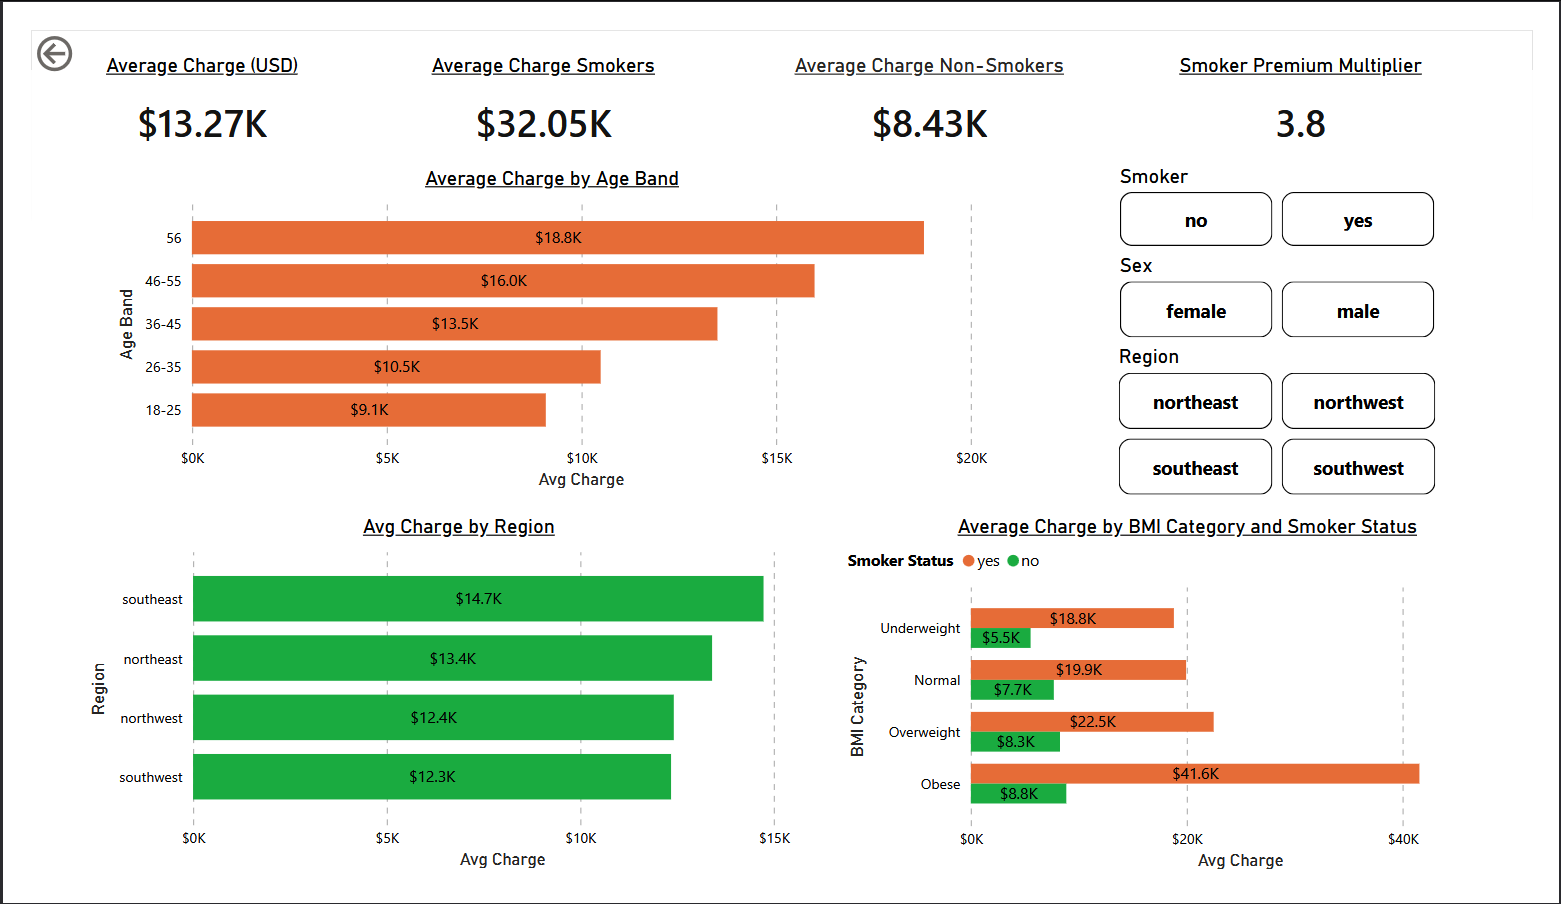

Layout of this report page (visuals, bound fields, positions):
{"tool":"powerbi","page":{"name":"Executive Overview","canvas":[1280,720],"ordinal":0},"visuals":[{"type":"cardVisual","title":"Average Charge (USD)","fields":{"Data":["_Measures.Avg Charge"]},"box":[49.9,19.9,191.3,94.3],"z":0},{"type":"cardVisual","title":"Average Charge Smokers","fields":{"Data":["_Measures.Avg Charge Smokers"]},"box":[322.8,19.9,226.7,94.3],"z":1000},{"type":"cardVisual","title":"Average Charge Non-Smokers","fields":{"Data":["_Measures.Avg Charge Non-Smokers"]},"box":[640.2,19.9,251.2,94.3],"z":2000},{"type":"cardVisual","title":"Smoker Premium Multiplier","fields":{"Data":["_Measures.Smoker Premium Multiplier"]},"box":[970.3,19.9,224,94.3],"z":3000},{"type":"clusteredBarChart","title":"Average Charge by Age Band","fields":{"Y":["_Measures.Avg Charge"],"Category":["insurance.Age Band"]},"box":[68,116.1,751.7,280.2],"z":4000},{"type":"clusteredBarChart","title":"Average Charge by BMI Category and Smoker Status","fields":{"Category":["insurance.BMI Category"],"Y":["_Measures.Avg Charge"],"Series":["insurance.Smoker"]},"box":[691,412.6,589.4,307.4],"z":5000},{"type":"clusteredBarChart","fields":{"Y":["_Measures.Avg Charge"],"Category":["insurance.Region"]},"box":[43.5,412.6,641.1,307.4],"z":6000},{"type":"actionButton","box":[0,0,100,40],"z":7000},{"type":"advancedSlicerVisual","fields":{"Values":["insurance.Sex"]},"box":[923.1,190.4,279.3,78],"z":8000},{"type":"advancedSlicerVisual","fields":{"Values":["insurance.Region"]},"box":[922.2,268.4,280.2,133.3],"z":9000},{"type":"advancedSlicerVisual","fields":{"Values":["insurance.Smoker"]},"box":[923.1,114.3,279.3,76.2],"z":10000}]}

Visuals, with their boxes in screenshot pixels (x1, y1, x2, y2), scaled from the page's 1280x720 canvas onto the 1561x904 screenshot:
"Average Charge (USD)" cardVisual: bbox(61, 25, 294, 143)
"Average Charge Smokers" cardVisual: bbox(394, 25, 670, 143)
"Average Charge Non-Smokers" cardVisual: bbox(781, 25, 1087, 143)
"Smoker Premium Multiplier" cardVisual: bbox(1183, 25, 1456, 143)
"Average Charge by Age Band" clusteredBarChart: bbox(83, 146, 1000, 498)
"Average Charge by BMI Category and Smoker Status" clusteredBarChart: bbox(843, 518, 1560, 903)
clusteredBarChart - _Measures.Avg Charge x insurance.Region: bbox(53, 518, 835, 903)
actionButton: bbox(0, 0, 122, 50)
advancedSlicerVisual - insurance.Sex: bbox(1126, 239, 1466, 337)
advancedSlicerVisual - insurance.Region: bbox(1125, 337, 1466, 504)
advancedSlicerVisual - insurance.Smoker: bbox(1126, 144, 1466, 239)
